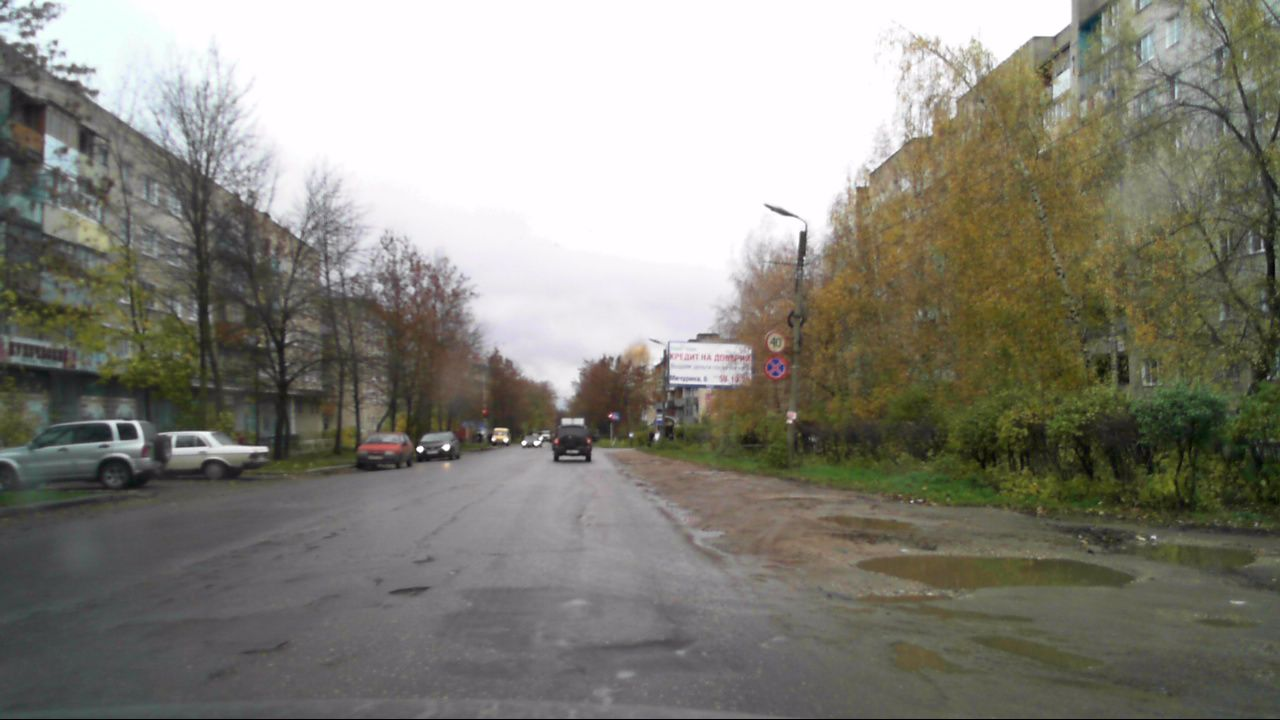No Parking: (761, 355, 789, 381)
speed_warning_40: (763, 330, 787, 355)
